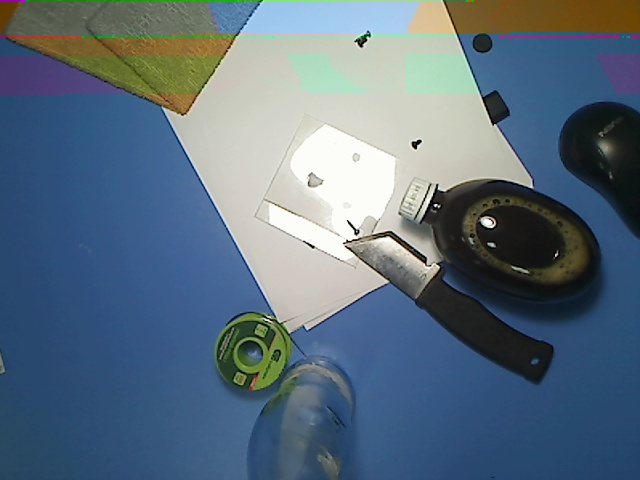plast_bottle: (401, 149, 614, 311)
